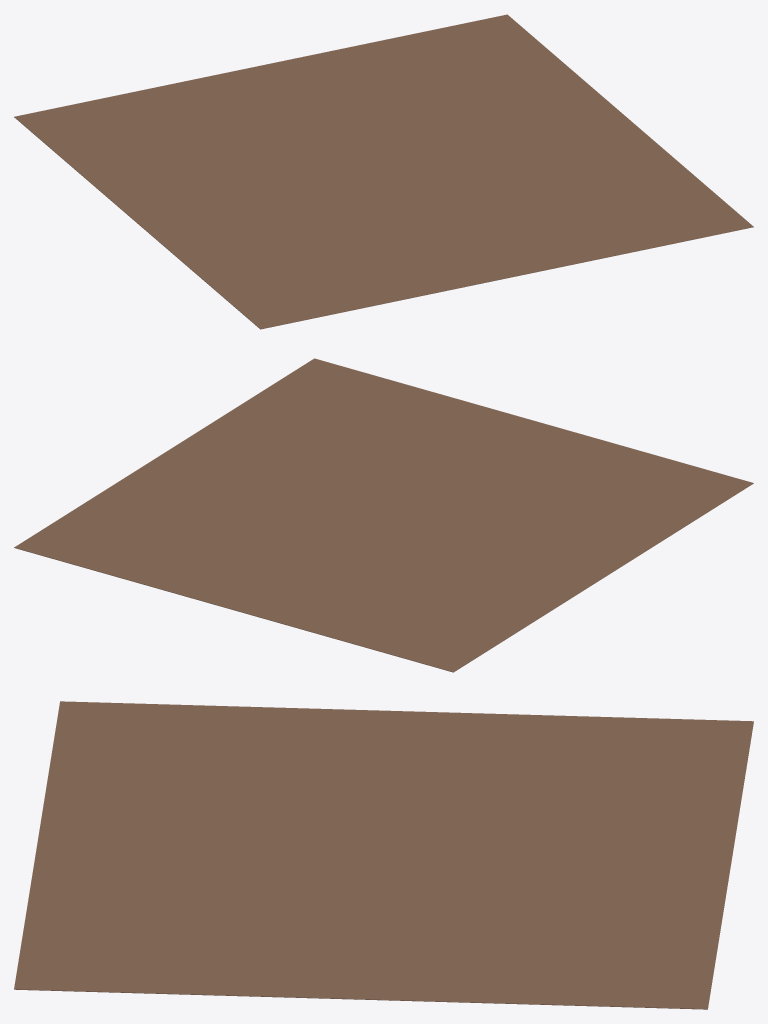
File: nd_pitch_377533050.glb
3 renders of one model, top to bottom at view 1: azimuth 30°, elevation 25°; view 2: azimuth 150°, elevation 25°; view 3: azimuth 270°, elevation 25°, orthographic. The views are drawn at different scales.
Visible parts, largest first — view 1: nd_pitch_377533050_lod0; view 2: nd_pitch_377533050_lod0; view 3: nd_pitch_377533050_lod0.
Part boxes in pixels (x1=…): nd_pitch_377533050_lod0: x1=14, y1=14, x2=753, y2=329; nd_pitch_377533050_lod0: x1=14, y1=358, x2=753, y2=672; nd_pitch_377533050_lod0: x1=14, y1=701, x2=753, y2=1009.
Size of what is drawn, in the model's own units: 87.13 by 0.0973 by 88.53.
